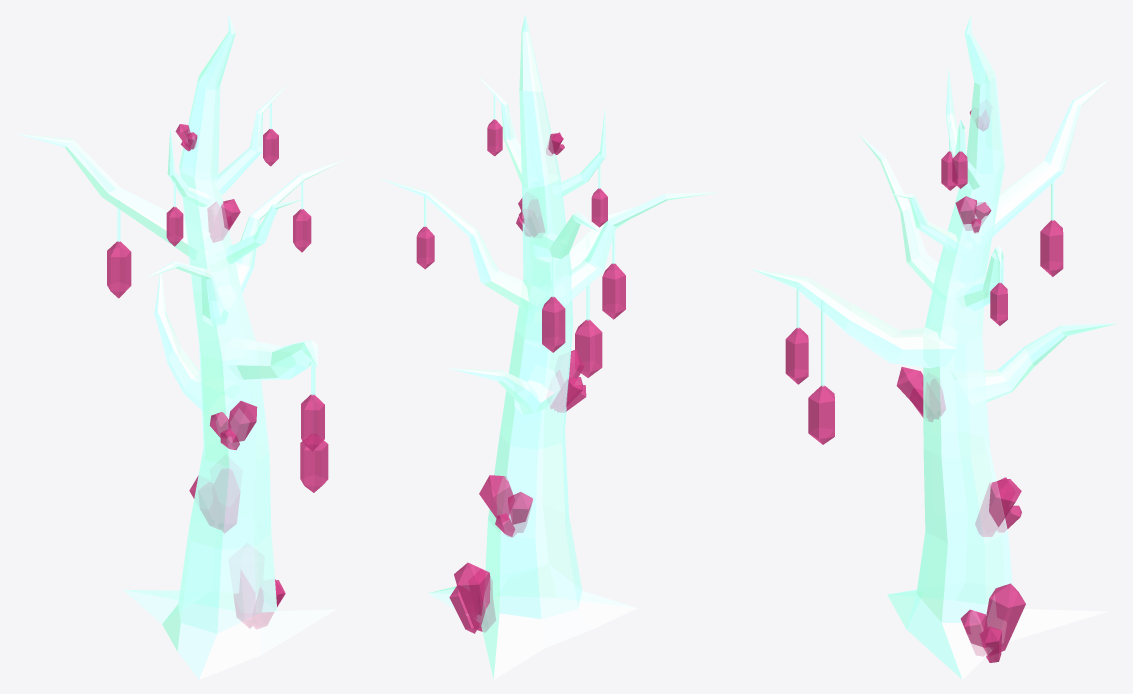
The model's file is Baum_prototyp.fbx.
3 renders of one model, left to right at view 1: azimuth 30°, elevation 25°; view 2: azimuth 150°, elevation 25°; view 3: azimuth 270°, elevation 25°, orthographic.
Visible parts, largest first — view 1: Baum; view 2: Baum; view 3: Baum.
Part boxes in pixels (box(x1,y1,x2,y2)): Baum: box(15, 15, 347, 679); Baum: box(379, 15, 718, 679); Baum: box(750, 14, 1116, 679).
Bounding box in the file's own units: 0.3144 × 0.6771 × 0.36.
